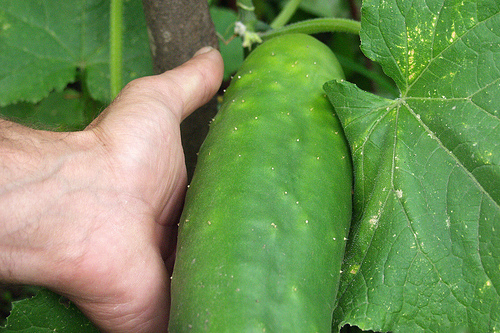cucumber: (164, 30, 356, 332)
